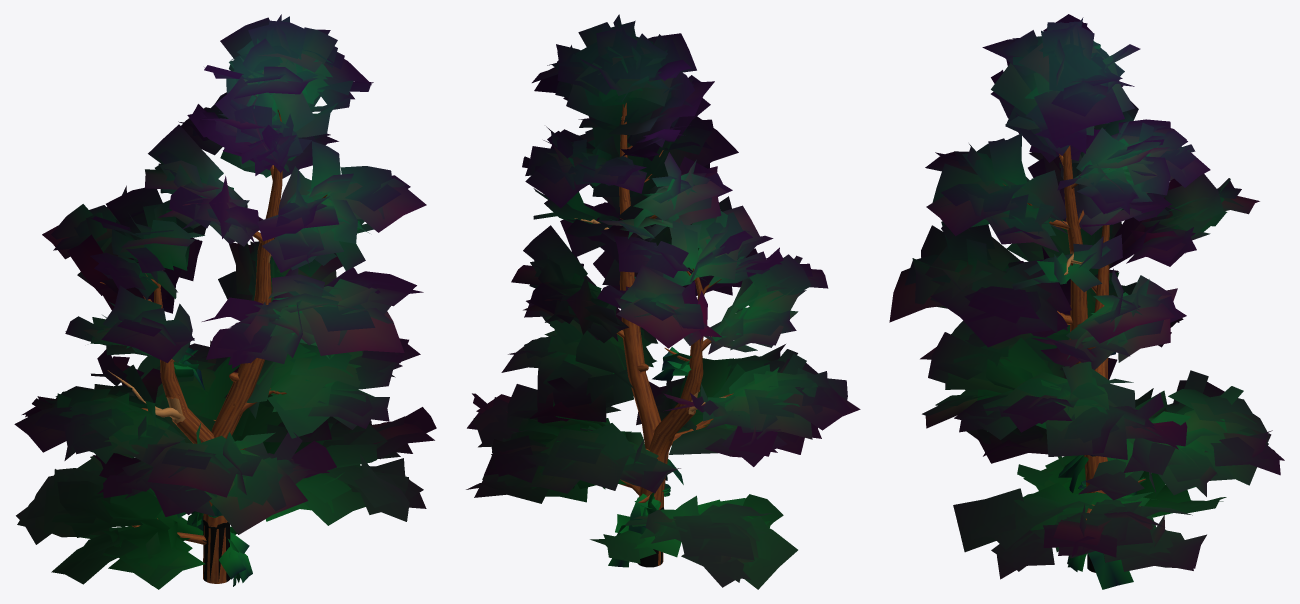
Rendered from obj_harvests_trees_pine02_p10.fbx.
The picture shows the model from 3 angles, left to right: view 1: azimuth 30°, elevation 25°; view 2: azimuth 150°, elevation 25°; view 3: azimuth 270°, elevation 25°; orthographic projection. The views are drawn at different scales.
Visible parts, largest first — view 1: chunk10; view 2: chunk10; view 3: chunk10.
Part boxes in pixels (left/top/right/bottom): chunk10: left=14, top=14, right=436, bottom=589; chunk10: left=466, top=14, right=860, bottom=589; chunk10: left=889, top=14, right=1284, bottom=589.
Size of the model in its own units: 59.89 by 79.7 by 49.35.
